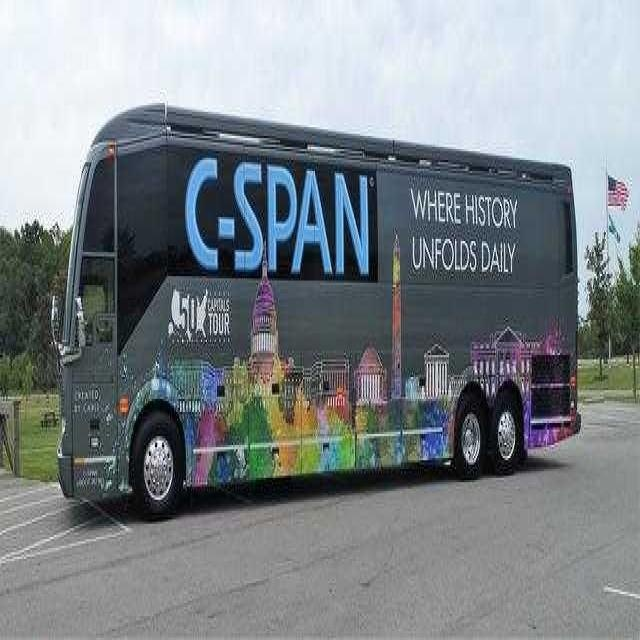Bus: (48, 88, 588, 520)
